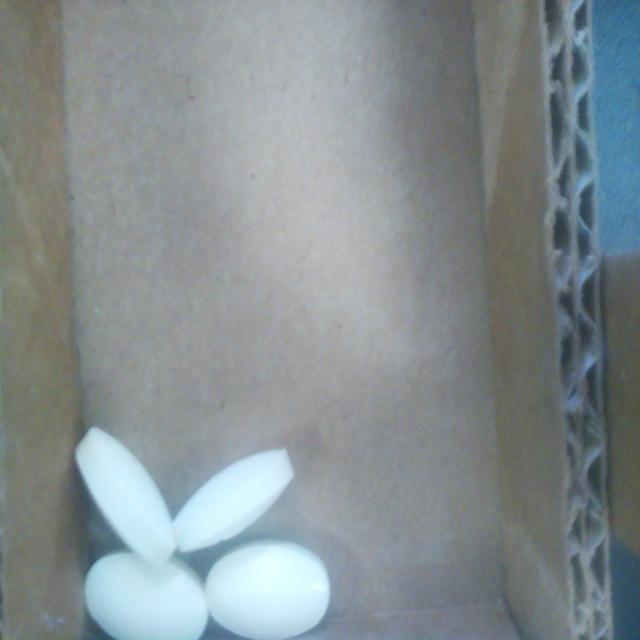pill: (75, 427, 177, 564), (173, 449, 294, 552), (205, 541, 330, 640), (85, 552, 209, 640)
